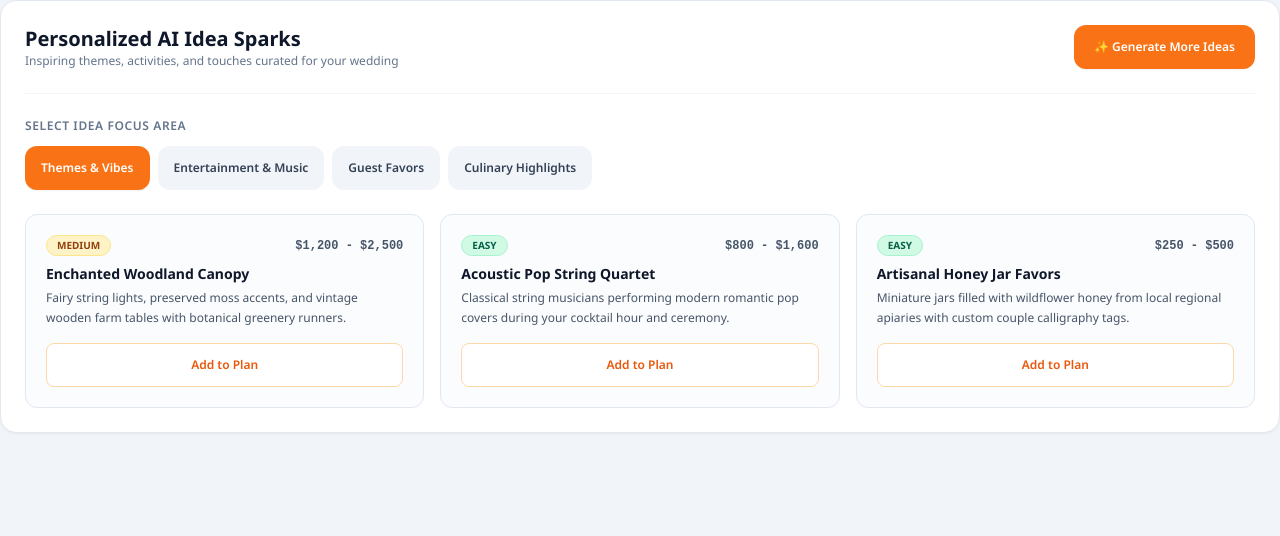
Test: IdeaGenerator component › displays error state on API failure
Click the button with aria-label "Generate new event ideas" at (1164, 47), box [1074, 25, 1255, 69]
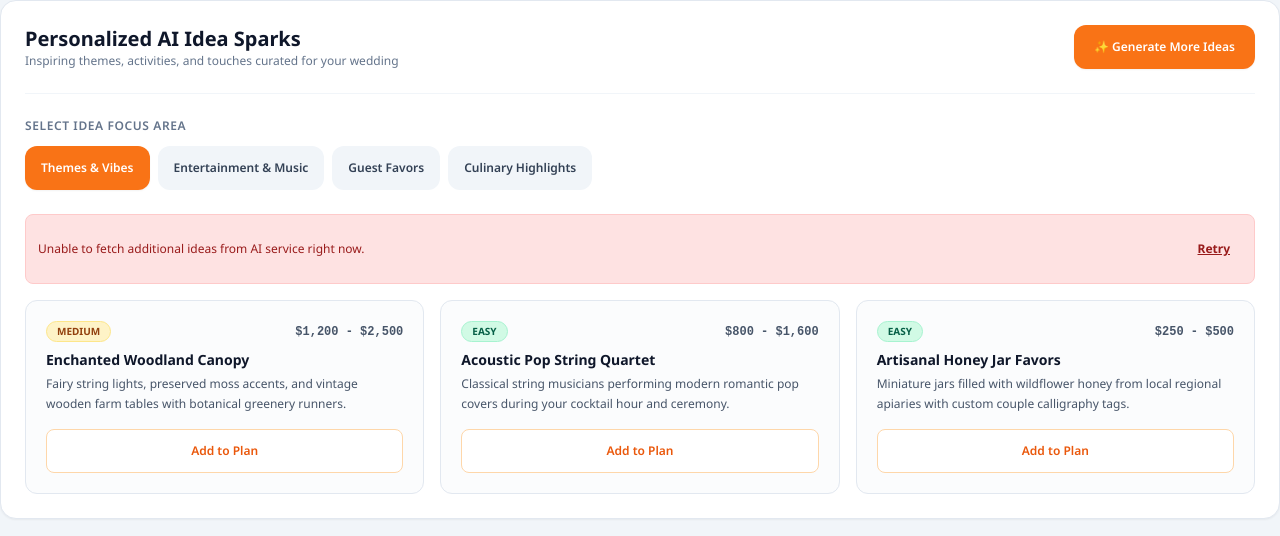
Check: the message "Unable to fetch additional ideas from AI service right now. Retry" is shown, box [25, 214, 1255, 284]
Check: the button "Retry" is shown, box [1186, 227, 1242, 271]
